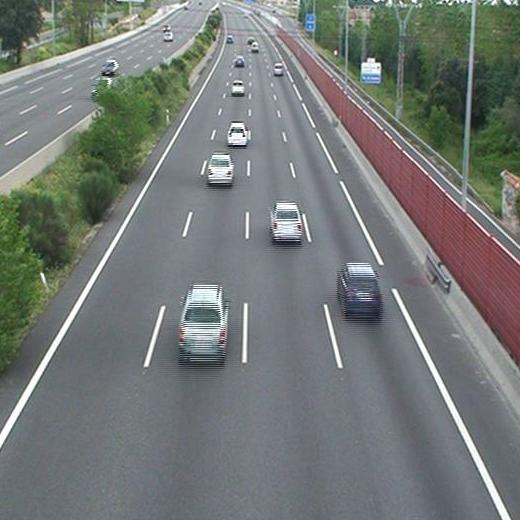car: (179, 286, 226, 358), (337, 264, 379, 316), (271, 203, 303, 240), (208, 153, 234, 185), (228, 122, 247, 145), (232, 80, 245, 94), (274, 62, 283, 77), (234, 55, 245, 66), (226, 35, 233, 45)
van: (251, 42, 258, 53)
